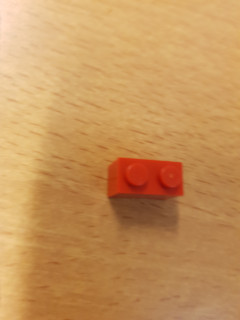1x2 red: (107, 156, 187, 200)
